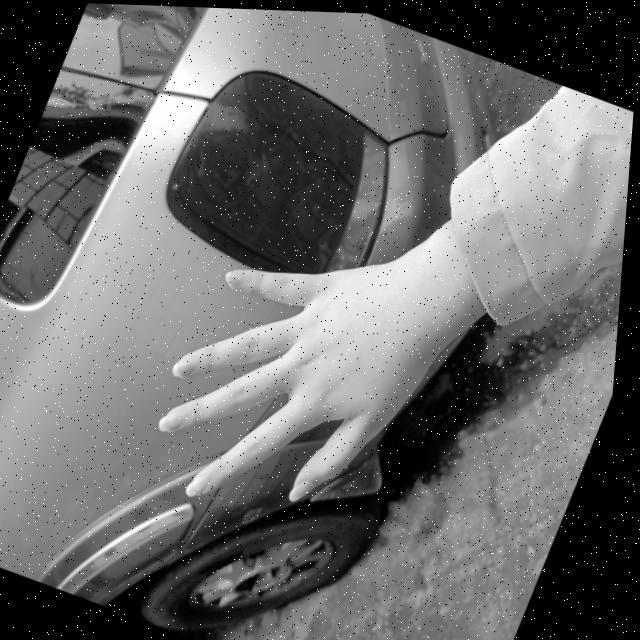no-gloves: (131, 202, 482, 562)
